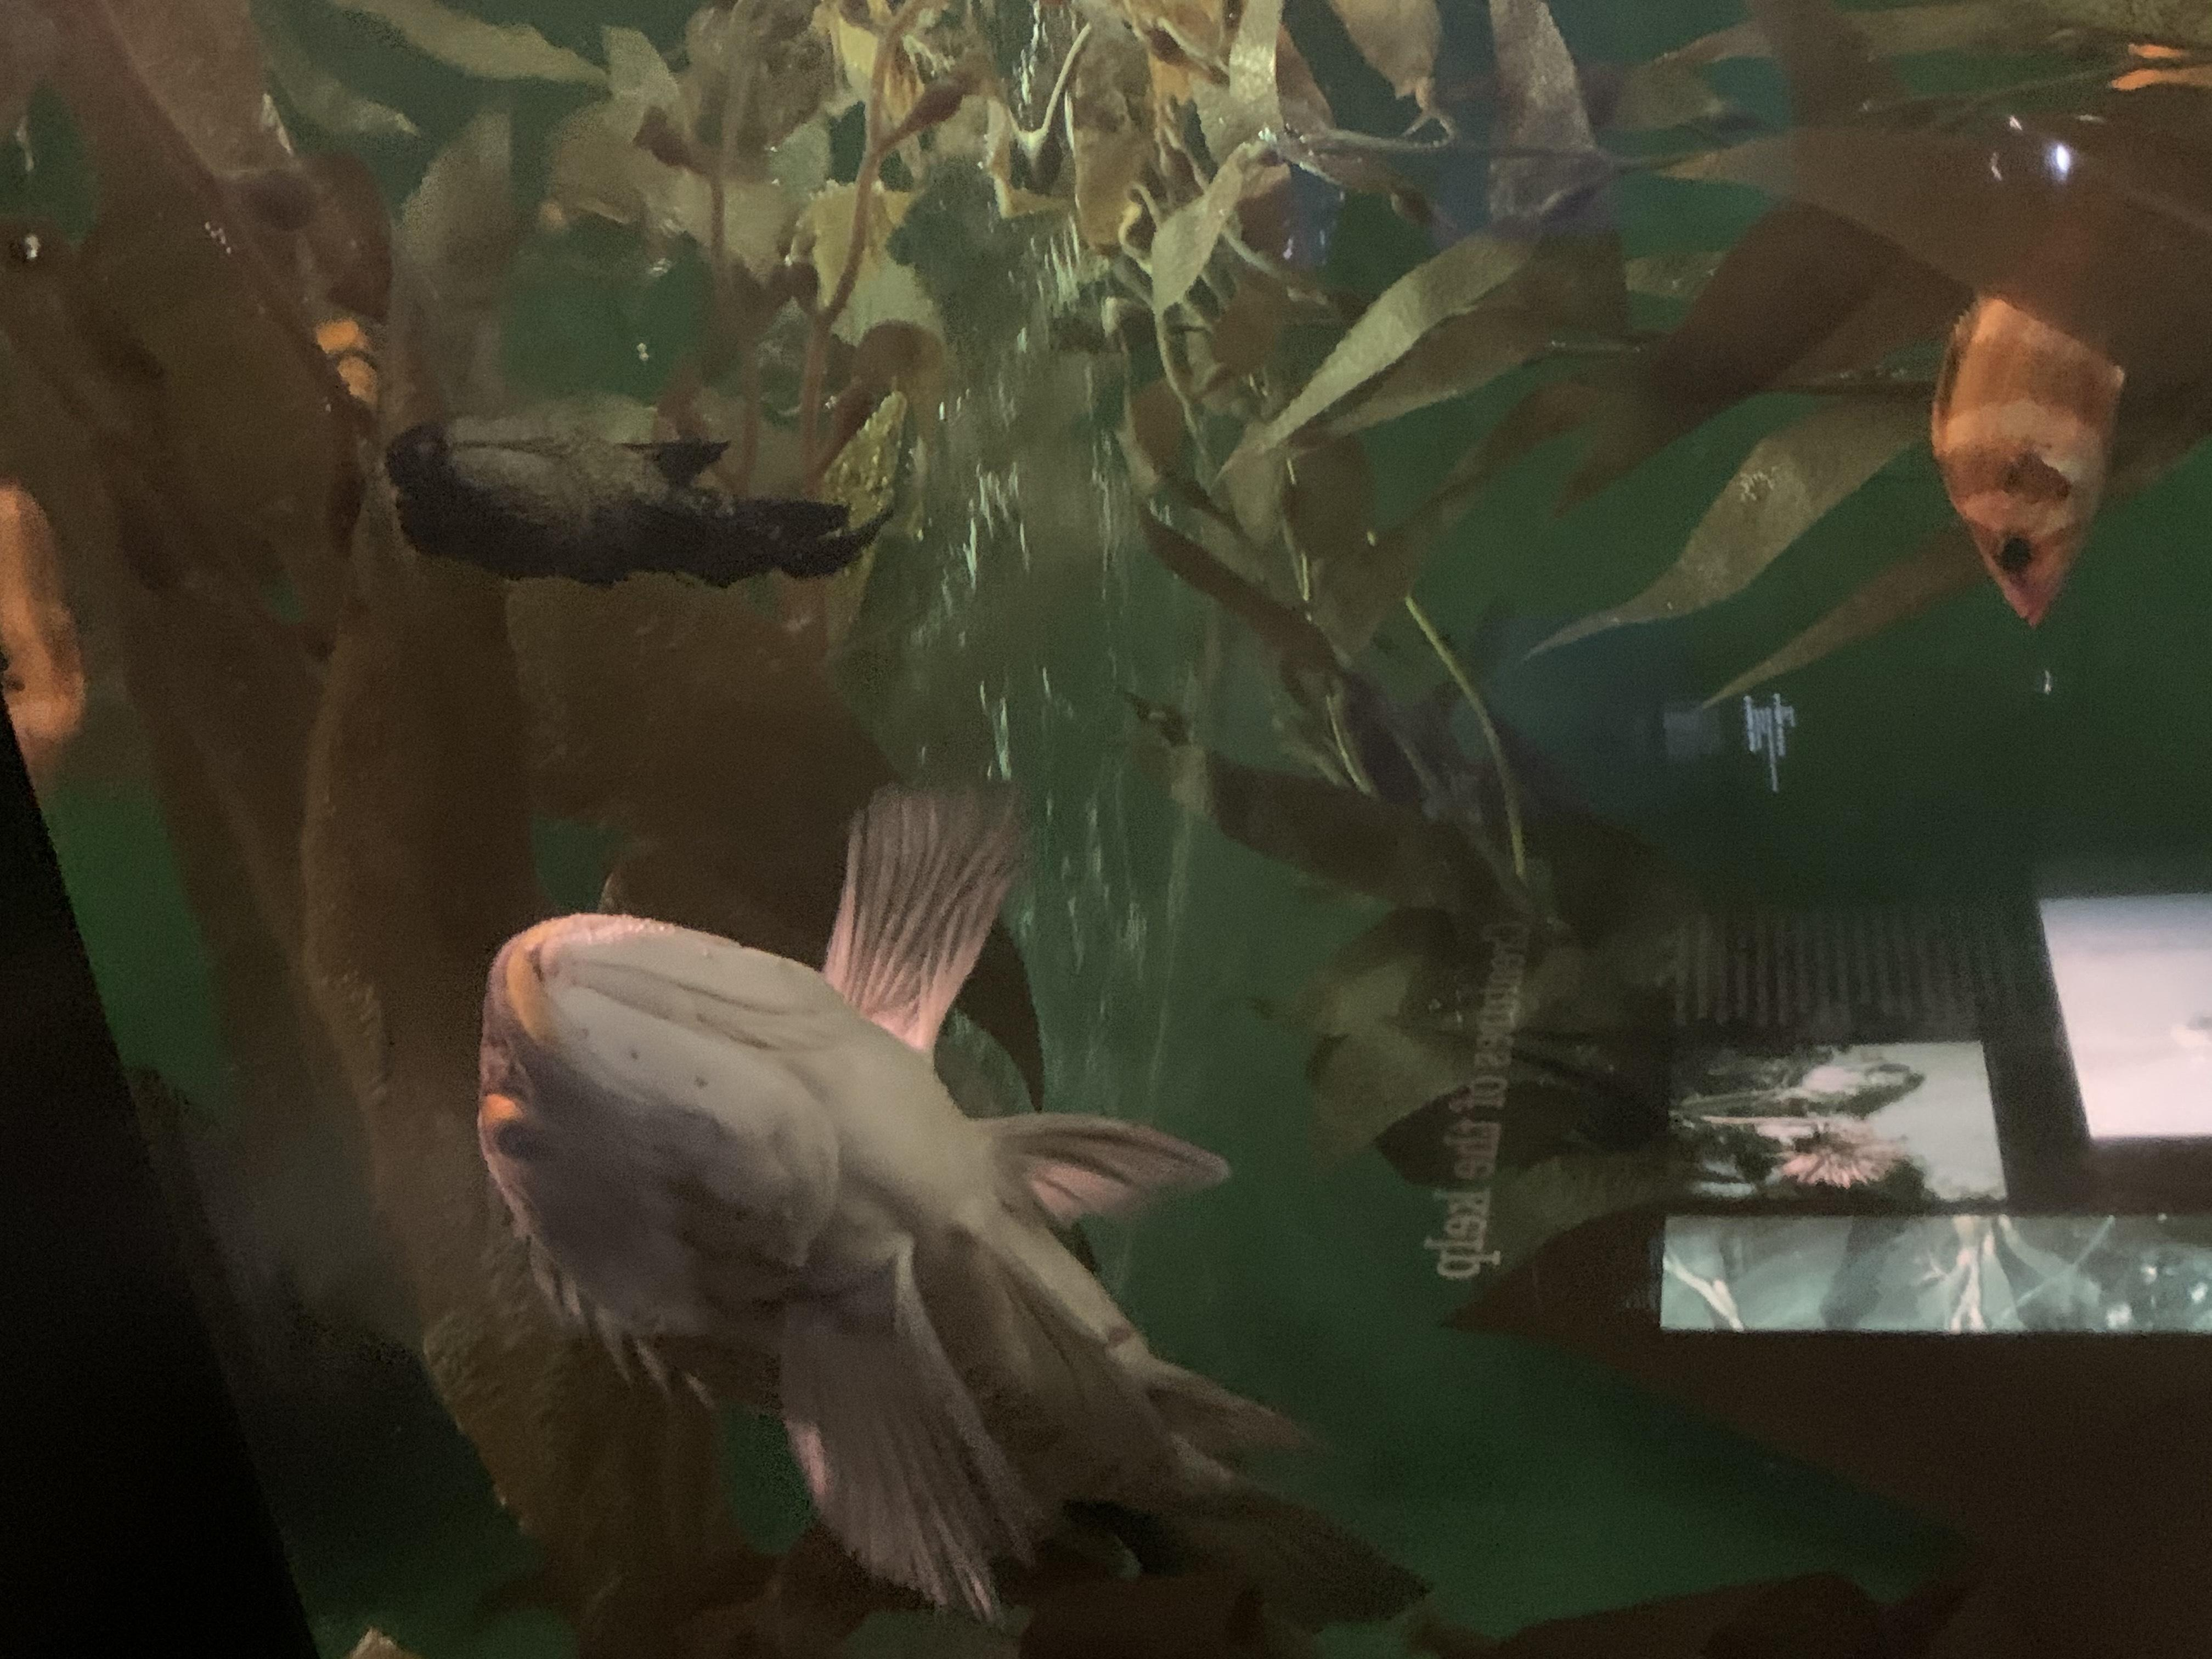fish: (470, 772, 1442, 1649), (1926, 26, 2209, 633), (390, 434, 723, 559)
